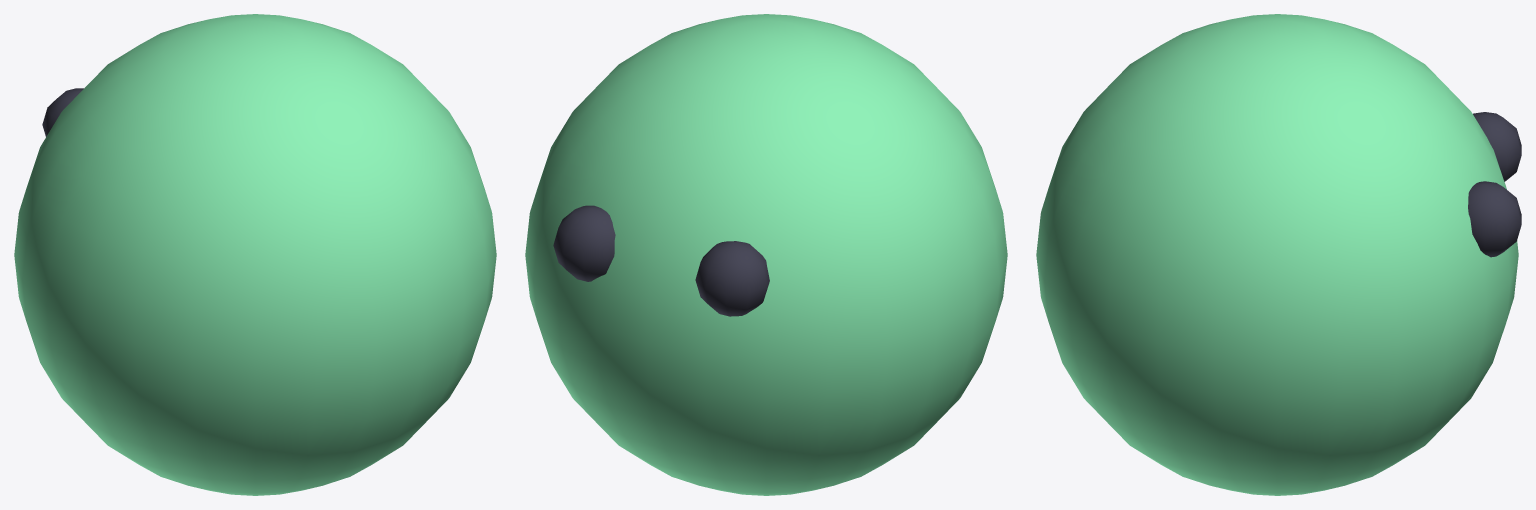
The model's file is jelly.gltf.
3 views of the same model, side by side, from view 1: azimuth 30°, elevation 25°; view 2: azimuth 150°, elevation 25°; view 3: azimuth 270°, elevation 25° (orthographic).
Visible parts, largest first — view 1: Body, Eyes; view 2: Body, Eyes; view 3: Body, Eyes.
Part boxes in pixels (left/top/right/bottom): Body: left=14, top=14, right=496, bottom=495; Eyes: left=42, top=88, right=83, bottom=136; Body: left=525, top=14, right=1007, bottom=495; Eyes: left=553, top=205, right=769, bottom=316; Body: left=1036, top=14, right=1518, bottom=495; Eyes: left=1468, top=112, right=1521, bottom=257.
Bounding box in the file's own units: 1 × 1 × 1.01.
